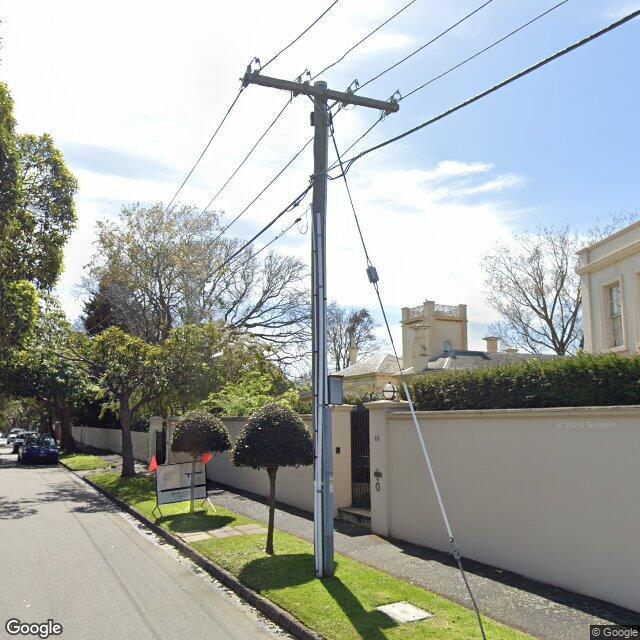concrete-pole: (240, 56, 402, 122)
timber-pole: (312, 79, 333, 576)
